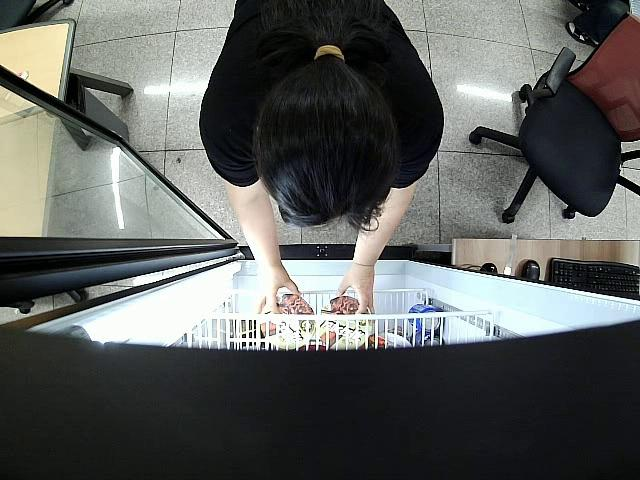00_hand: (254, 273, 302, 313), (334, 267, 375, 313)
03_chapagetti_L: (260, 294, 315, 347), (320, 296, 372, 349)
